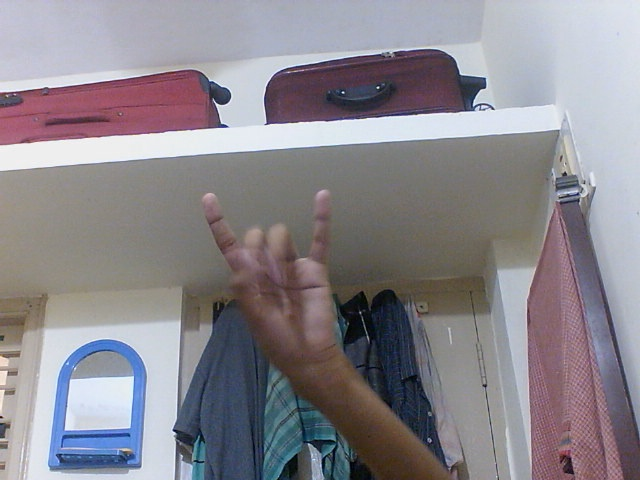hand: (198, 184, 344, 373)
